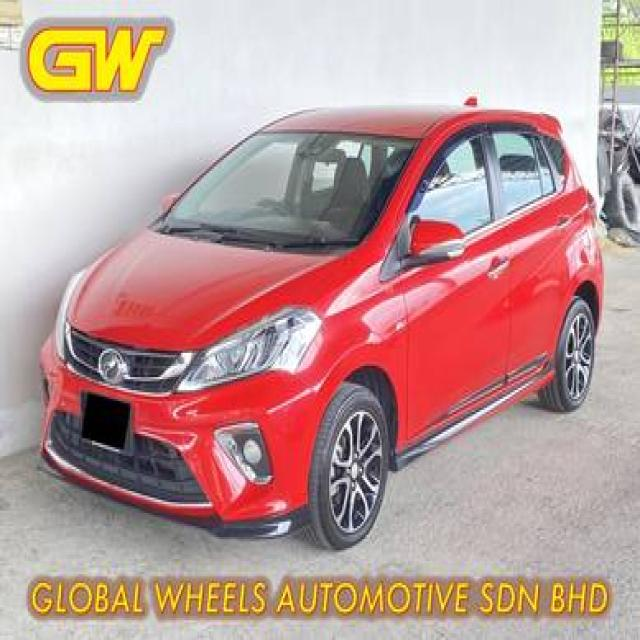PeroduaMyvi: (36, 94, 606, 550)
